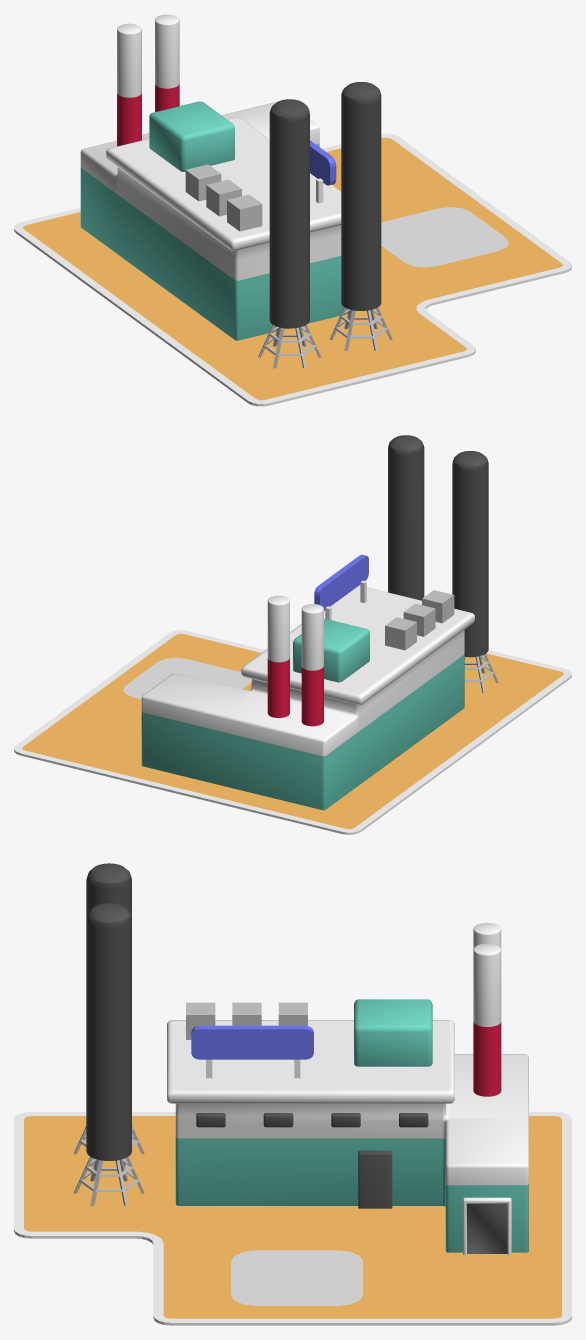
The model's file is Office_L1.fbx.
3 renders of one model, top to bottom at view 1: azimuth 30°, elevation 25°; view 2: azimuth 150°, elevation 25°; view 3: azimuth 270°, elevation 25°, orthographic. The views are drawn at different scales.
Parts seen in each view (by area): view 1: Cube.056, Cube.053, pCylinder15.001, Buy Garbage Box.002, Cube.222, Cylinder.096, Cylinder.097, Cube.219, Cube.221, Cube.220, Cube.229; view 2: Cube.053, Cube.056, pCylinder15.001, Cylinder.096, Cylinder.097, Cube.222, Buy Garbage Box.002, Cube.229, Cube.221, Cube.219, Cube.220; view 3: Cube.056, Cube.053, pCylinder15.001, Buy Garbage Box.002, Cube.222, Cylinder.097, Cube.229, Cube.228, Cube.226, Cube.227, Cube.219, Cube.220 (+2 smaller).
Part boxes in pixels (x1,y1,x2,y2): Cube.056: (14, 134, 571, 406); Cube.053: (80, 101, 348, 340); pCylinder15.001: (258, 82, 392, 368); Buy Garbage Box.002: (381, 207, 508, 267); Cube.222: (149, 101, 234, 171); Cylinder.096: (117, 23, 141, 146); Cylinder.097: (155, 14, 179, 111); Cube.219: (227, 194, 262, 231); Cube.221: (185, 164, 221, 201); Cube.220: (206, 179, 241, 216); Cube.229: (310, 140, 336, 185); Cube.053: (141, 585, 474, 810); Cube.056: (14, 630, 571, 834); pCylinder15.001: (388, 435, 498, 693); Cylinder.096: (301, 604, 323, 726); Cylinder.097: (267, 595, 289, 717); Cube.222: (293, 619, 369, 682); Buy Garbage Box.002: (123, 657, 251, 699); Cube.229: (314, 554, 368, 610); Cube.221: (385, 617, 416, 650); Cube.219: (422, 590, 454, 623); Cube.220: (403, 603, 435, 636); Cube.056: (14, 1112, 571, 1325); Cube.053: (167, 1020, 528, 1252); pCylinder15.001: (74, 863, 144, 1206); Buy Garbage Box.002: (231, 1250, 362, 1305); Cube.222: (354, 999, 432, 1066); Cylinder.097: (473, 943, 501, 1096); Cube.229: (191, 1025, 313, 1059); Cube.228: (463, 1197, 511, 1255); Cube.226: (358, 1150, 392, 1208); Cube.227: (196, 1113, 428, 1127); Cube.219: (186, 1002, 215, 1039); Cube.220: (232, 1002, 261, 1025).
Bounding box in the file's own units: 1700 × 1079 × 1900.
